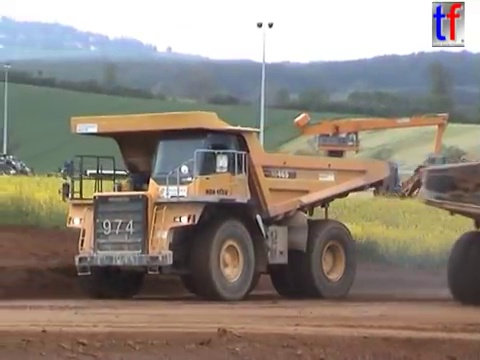excavator: (290, 109, 453, 179), (330, 156, 470, 221)
truck: (57, 107, 394, 304), (417, 157, 480, 309)
